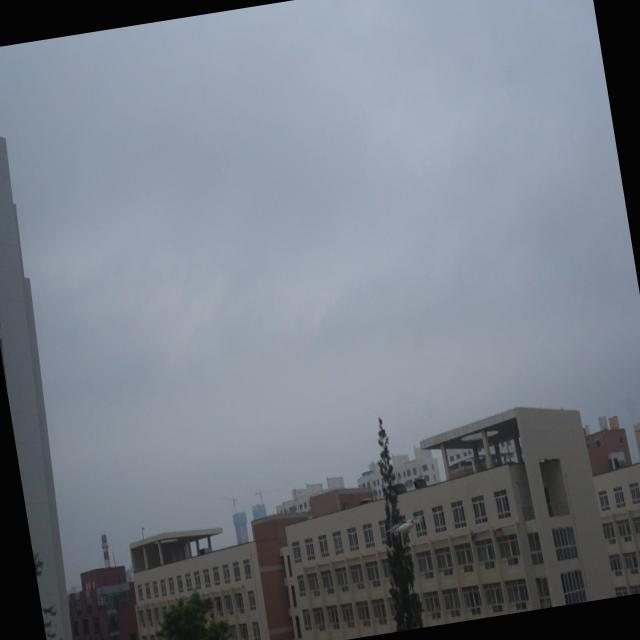drone: (384, 508, 426, 550)
